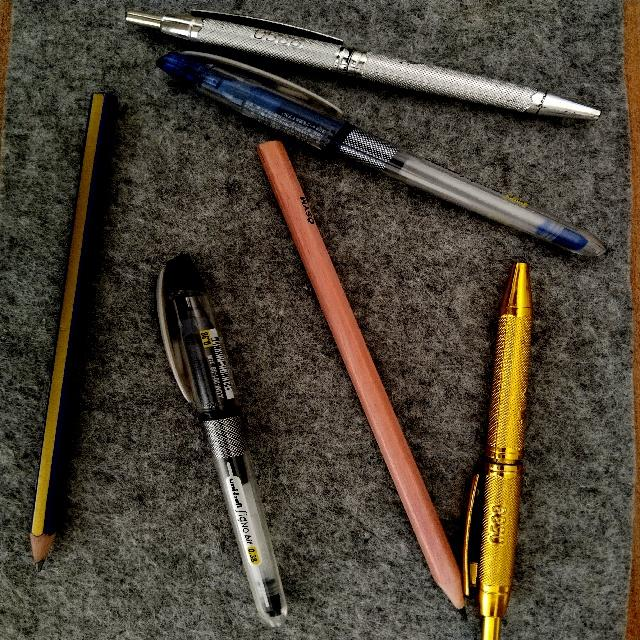pen: (157, 53, 604, 255), (157, 254, 286, 626)
pencil: (258, 141, 463, 608), (30, 93, 116, 569)
signature pen: (126, 11, 599, 119), (463, 263, 531, 639)
